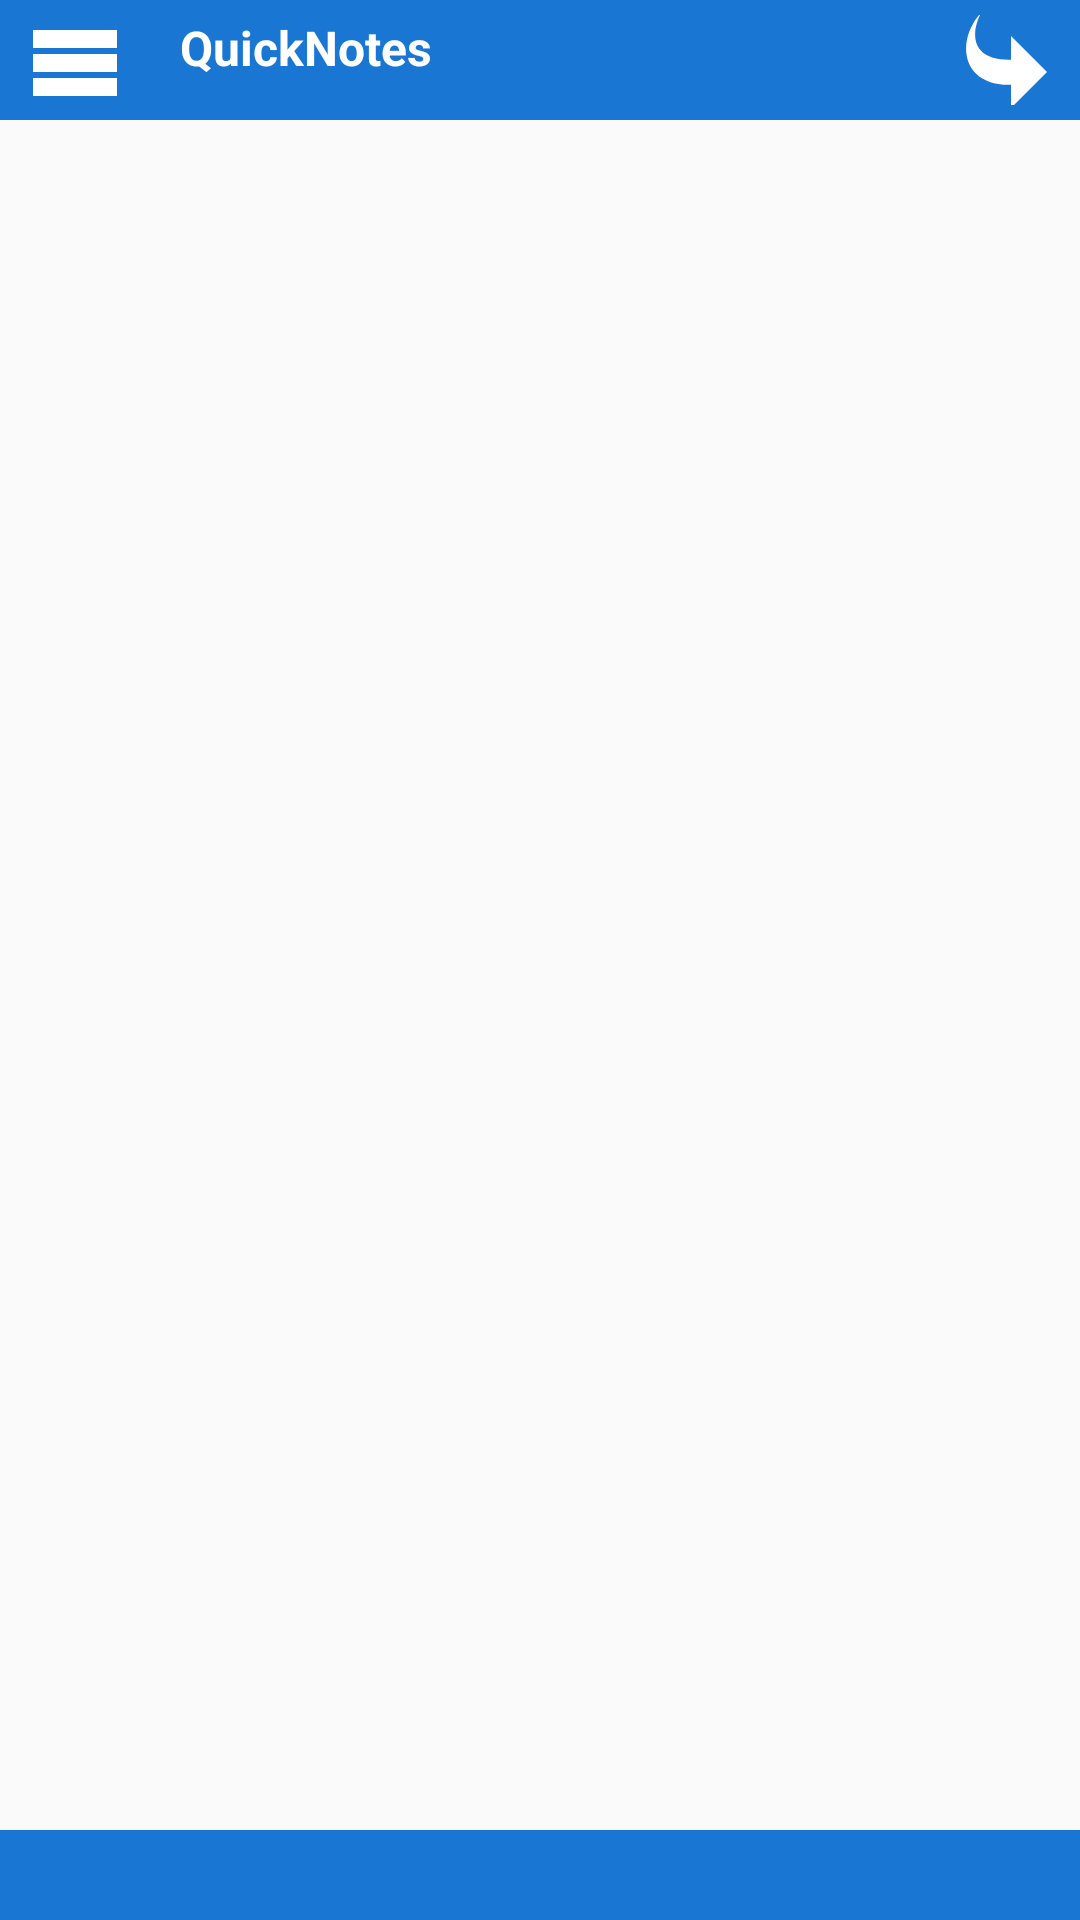

Icons on this 1080px×1920px Android screen, each with its box as (x1, y1, x2, y2):
bar forward: (966, 15, 1047, 105)
